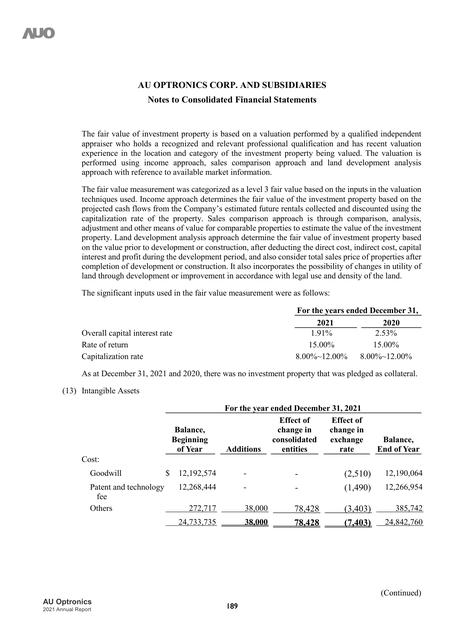box: (80, 403, 428, 532), (78, 307, 421, 364)
